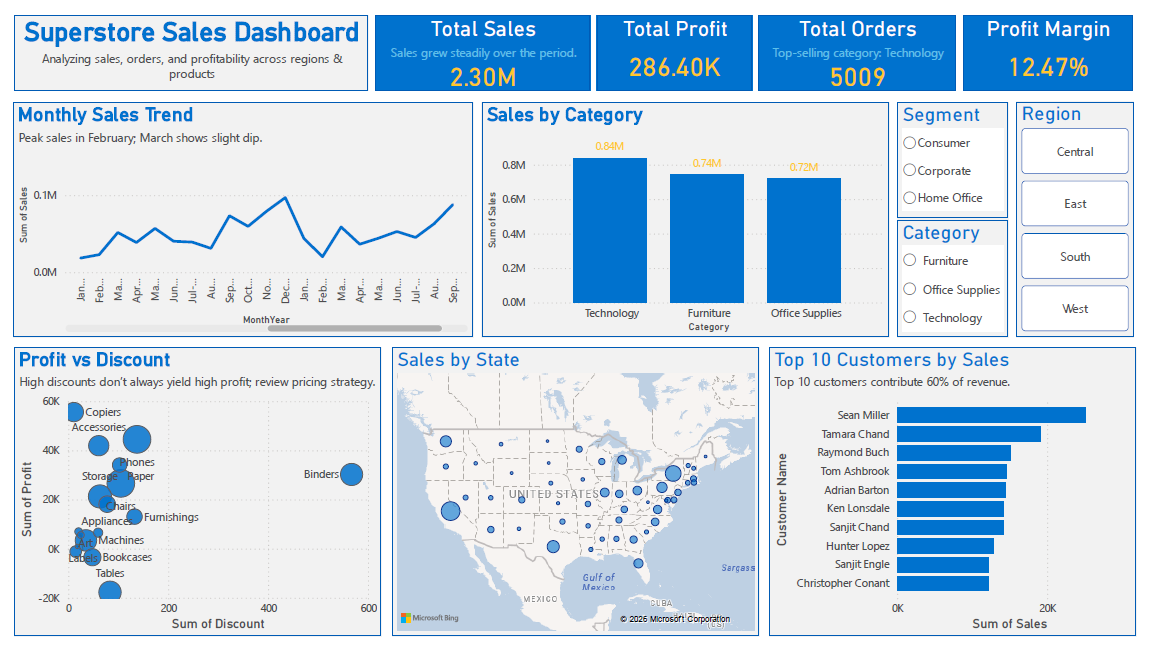

The dashboard page shown, as its layout file describes it:
{"tool":"powerbi","page":{"name":"Executive Dashboard","canvas":[1280,720],"ordinal":0},"visuals":[{"type":"card","title":"Total Sales","fields":{"Values":["Sum(superstore.Sales)"]},"box":[416.7,8.6,242.1,85.7],"z":0},{"type":"card","title":"Total Profit","fields":{"Values":["Sum(superstore.Profit)"]},"box":[666.2,8.6,174.6,85.7],"z":1000},{"type":"card","title":"Total Orders","fields":{"Values":["Count(superstore.Order ID)"]},"box":[848.3,8.6,221.7,85.7],"z":2000},{"type":"card","title":"Profit Margin","fields":{"Values":["superstore.Profit Margin"]},"box":[1077.6,8.6,191.7,85.7],"z":3000},{"type":"lineChart","title":"Monthly Sales Trend","fields":{"Y":["Sum(superstore.Sales)"],"Category":["superstore.MonthYear.Variation.Date Hierarchy.Year"]},"box":[10,106.9,517.4,263.7],"z":4000},{"type":"listSlicer","fields":{"Values":["superstore.Category"]},"box":[1003.9,239.2,125.5,131.4],"z":5000},{"type":"advancedSlicerVisual","fields":{"Values":["superstore.Region"]},"box":[1138.3,106.3,131.4,264.3],"z":6000},{"type":"listSlicer","fields":{"Values":["superstore.Segment"]},"box":[1004.4,107,125,130],"z":7000},{"type":"clusteredColumnChart","title":"Sales by Category","fields":{"Category":["superstore.Category"],"Y":["Sum(superstore.Sales)"]},"box":[537.4,106.9,457.6,263.7],"z":8000},{"type":"scatterChart","title":"Profit vs Discount","fields":{"X":["Sum(superstore.Discount)"],"Y":["Sum(superstore.Profit)"],"Category":["superstore.Sub-Category"],"Size":["Sum(superstore.Sales)"]},"box":[11,382,413,325],"z":9000},{"type":"map","title":"Sales by State","fields":{"Size":["Sum(superstore.Sales)"],"Category":["superstore.State"]},"box":[435.5,382,413,325],"z":10000},{"type":"clusteredBarChart","title":"Top 10 Customers by Sales","fields":{"Category":["superstore.Customer Name"],"Y":["Sum(superstore.Sales)"]},"box":[860,382,413,325],"z":11000},{"type":"textbox","title":"Superstore Sales Dashboard","box":[10.7,8.6,398.5,85.7],"z":12000}]}

Visuals, with their boxes in screenshot pixels (x1, y1, x2, y2), scaled from the page's 1280x720 canvas onto the 1152x655 screenshot:
"Total Sales" card: x1=375 y1=8 x2=593 y2=86
"Total Profit" card: x1=600 y1=8 x2=757 y2=86
"Total Orders" card: x1=763 y1=8 x2=963 y2=86
"Profit Margin" card: x1=970 y1=8 x2=1142 y2=86
"Monthly Sales Trend" lineChart: x1=9 y1=97 x2=475 y2=337
listSlicer - superstore.Category: x1=904 y1=218 x2=1016 y2=337
advancedSlicerVisual - superstore.Region: x1=1024 y1=97 x2=1143 y2=337
listSlicer - superstore.Segment: x1=904 y1=97 x2=1016 y2=216
"Sales by Category" clusteredColumnChart: x1=484 y1=97 x2=896 y2=337
"Profit vs Discount" scatterChart: x1=10 y1=348 x2=382 y2=643
"Sales by State" map: x1=392 y1=348 x2=764 y2=643
"Top 10 Customers by Sales" clusteredBarChart: x1=774 y1=348 x2=1146 y2=643
"Superstore Sales Dashboard" textbox: x1=10 y1=8 x2=368 y2=86
